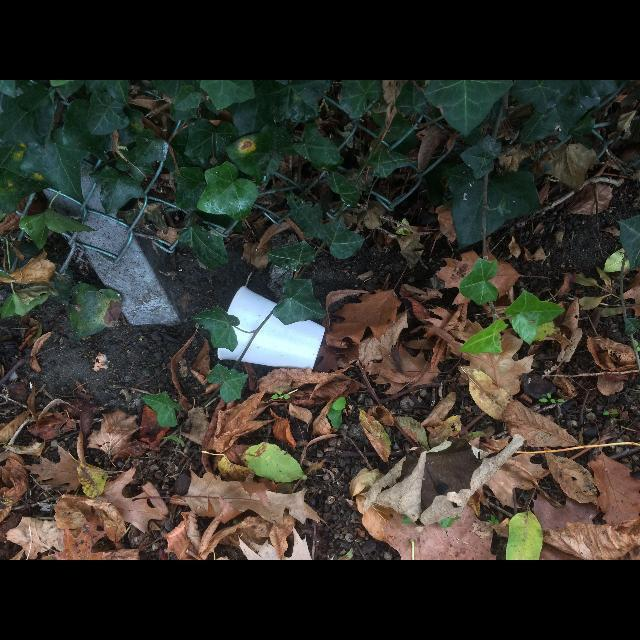Plastic: (218, 286, 326, 370)
